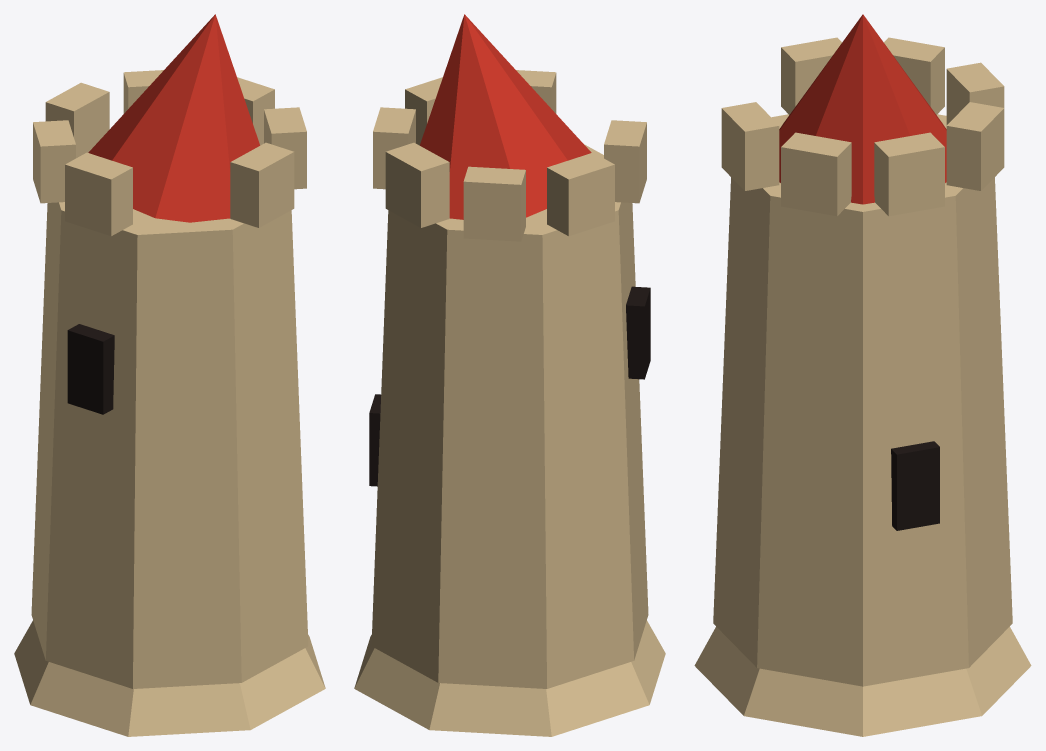
File: tower.obj
The picture shows the model from 3 angles, left to right: view 1: azimuth 30°, elevation 25°; view 2: azimuth 150°, elevation 25°; view 3: azimuth 270°, elevation 25°; orthographic projection. The views are drawn at different scales.
Visible parts, largest first — view 1: tower; view 2: tower; view 3: tower.
Boxes of the visible parts, x1,y1,x2,y2 form: tower: (14,14,325,736); tower: (354,14,665,736); tower: (694,14,1031,736).
Bounding box in the file's own units: 0.72 × 1.59 × 0.72.
